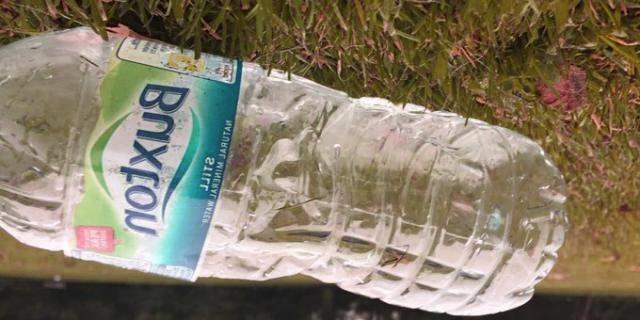Plastic: (0, 22, 567, 316)
